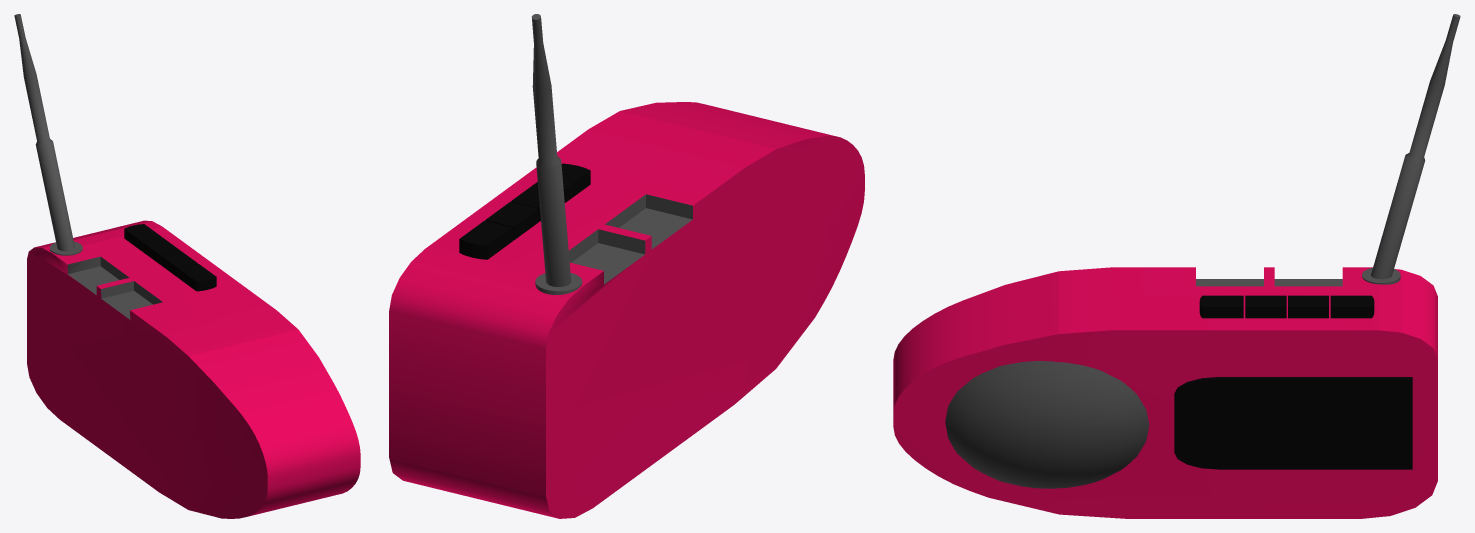
The model's file is Radio.fbx.
The picture shows the model from 3 angles, left to right: view 1: azimuth 30°, elevation 25°; view 2: azimuth 150°, elevation 25°; view 3: azimuth 270°, elevation 25°; orthographic projection. The views are drawn at different scales.
Visible parts, largest first — view 1: Cylinder.001, Cube.001, Cube.002; view 2: Cylinder.001, Cube.001, Cube.002; view 3: Cylinder.001, Cube.001, Cube.002.
Boxes of the visible parts, x1,y1,x2,y2 form: Cylinder.001: (14,14,360,518); Cube.001: (124,224,161,251); Cube.002: (142,237,179,264); Cylinder.001: (389,14,864,518); Cube.001: (459,220,512,259); Cube.002: (485,201,538,240); Cylinder.001: (893,14,1460,518); Cube.001: (1330,295,1374,318); Cube.002: (1288,295,1328,318).
Bounding box in the file's own units: 272 × 701 × 818.
